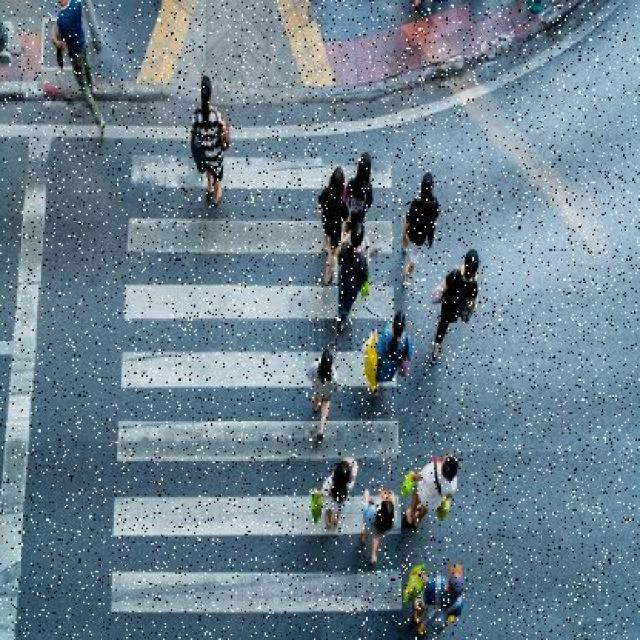crosswalk: (110, 140, 404, 640)
